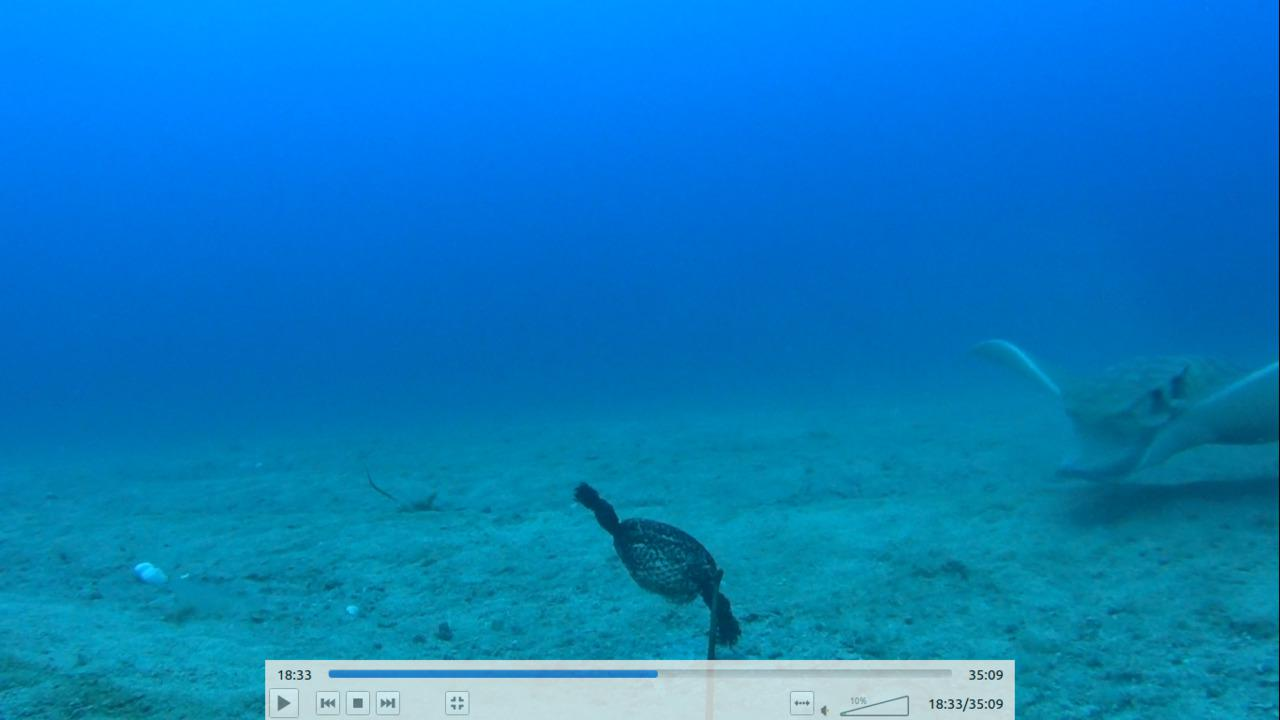myliobatis: (948, 331, 1279, 489)
